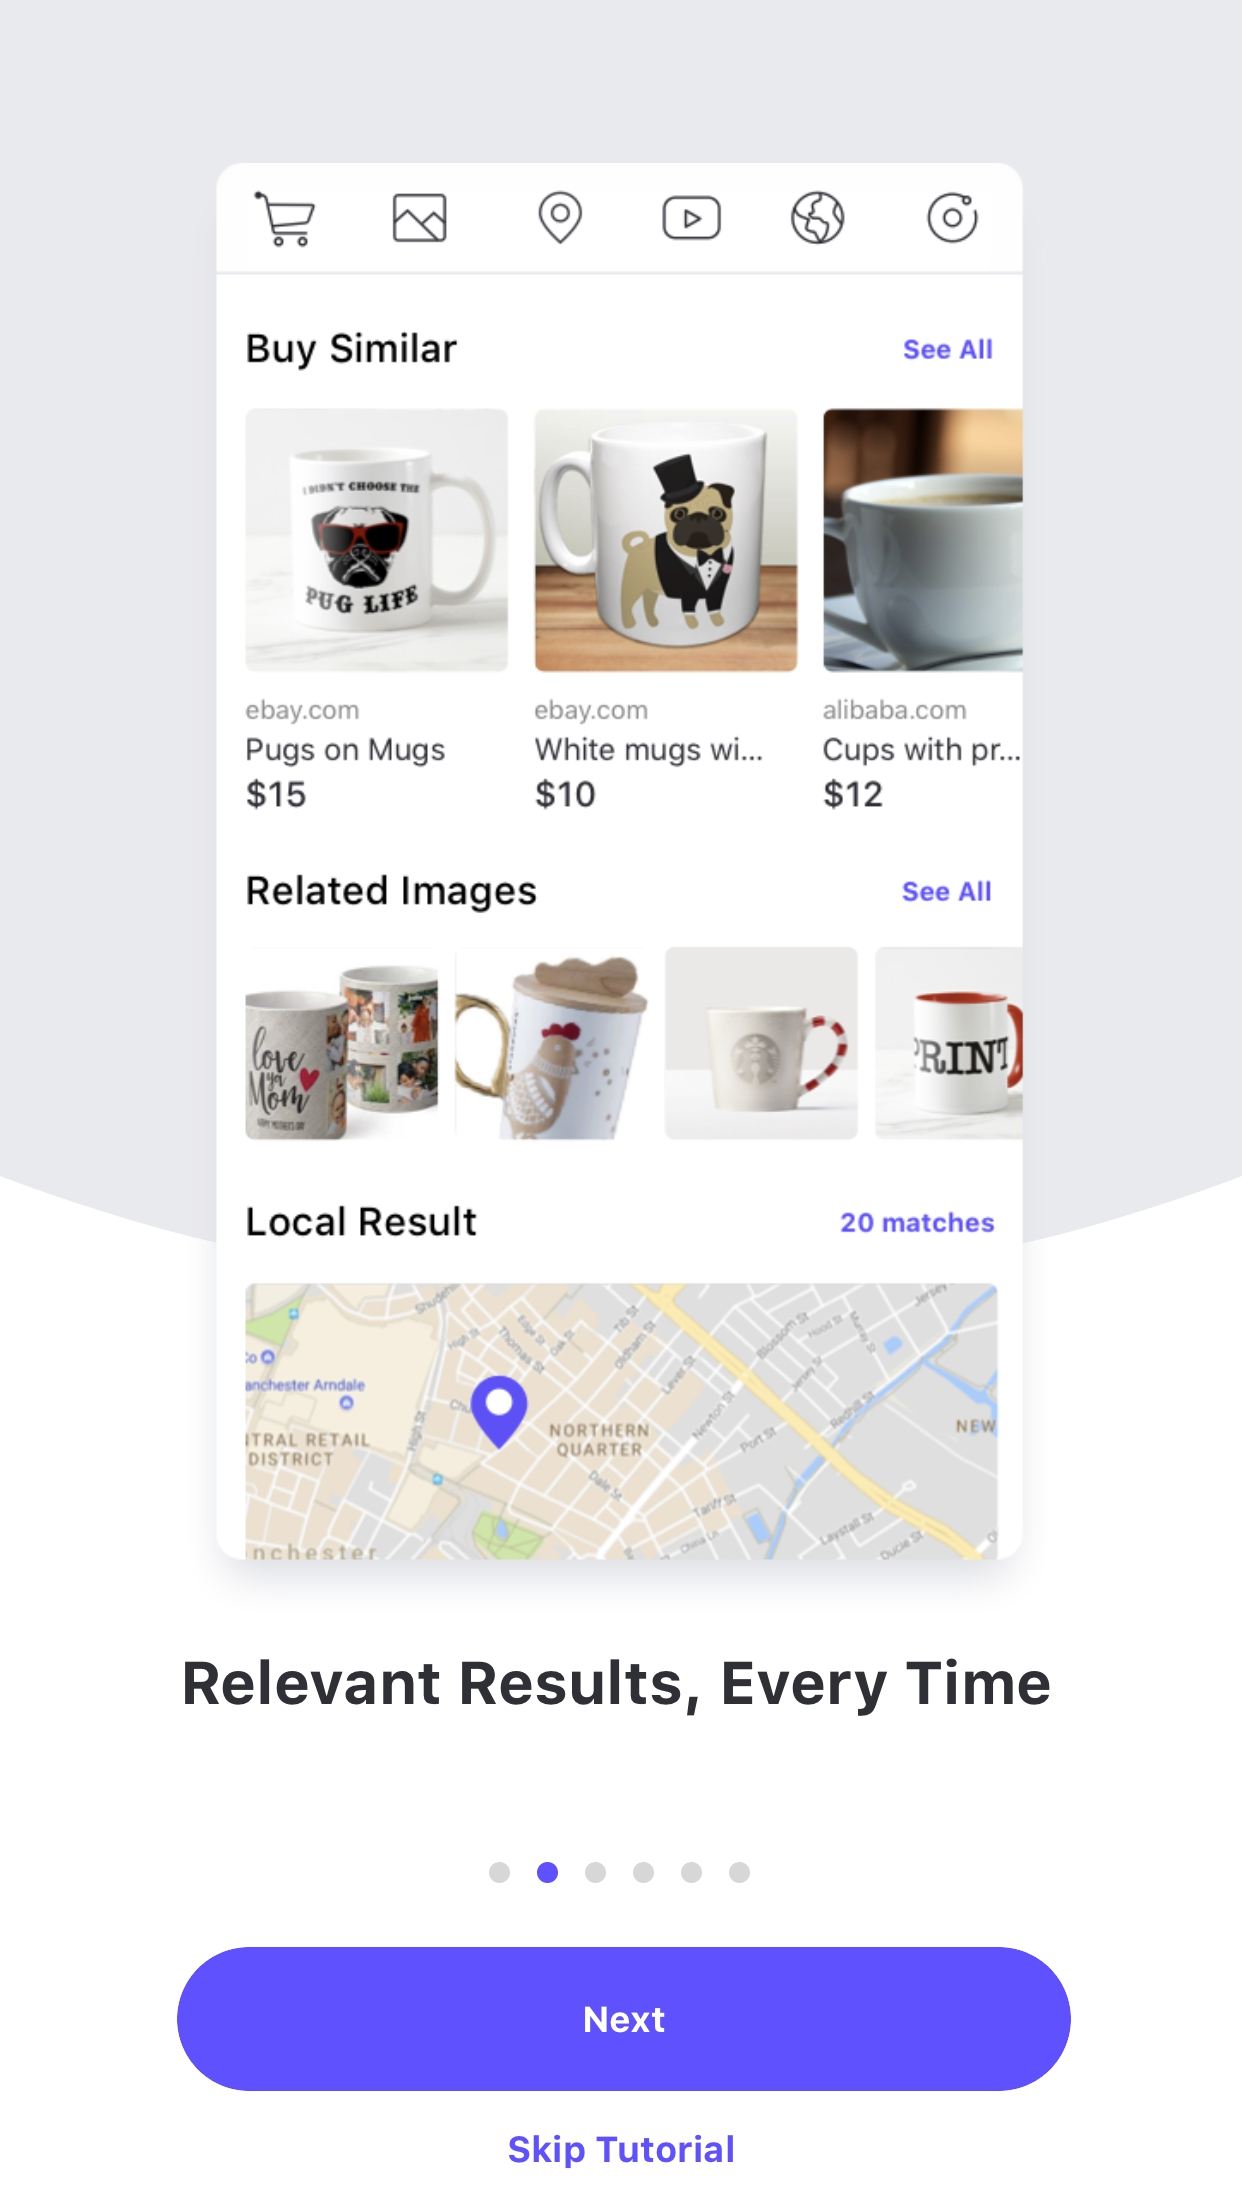Image: (215, 162, 1024, 1560)
PageIndicator: (488, 1861, 751, 1883)
Text: (185, 1658, 1049, 1717), (510, 2134, 732, 2169)
TextButton: (177, 1946, 1071, 2091)
